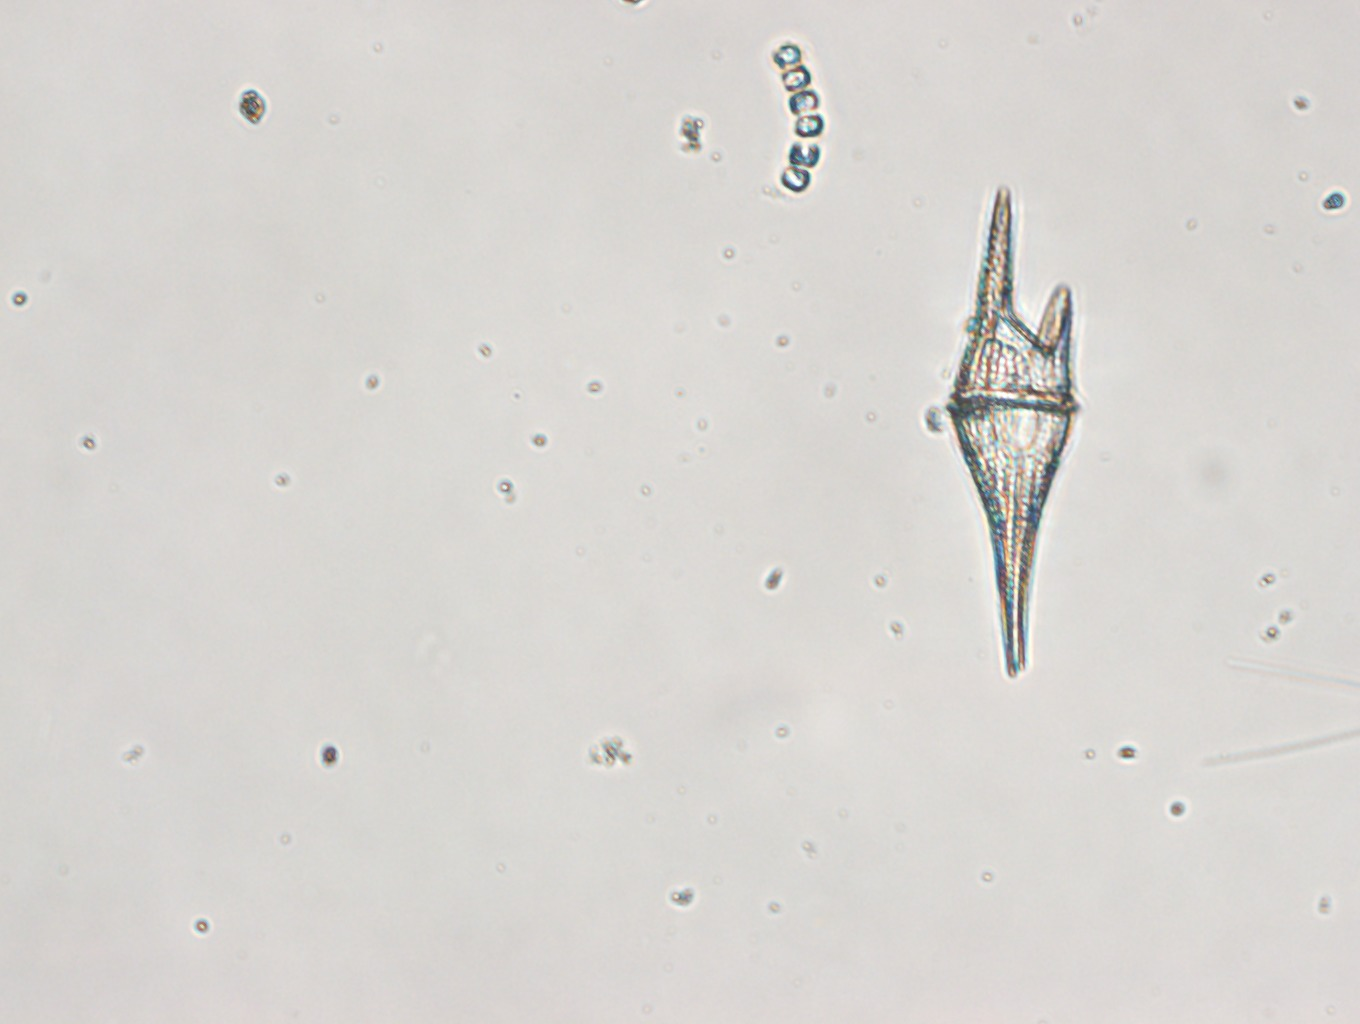ceratium furca: (944, 188, 1082, 675)
skeletonema: (768, 39, 826, 194)
